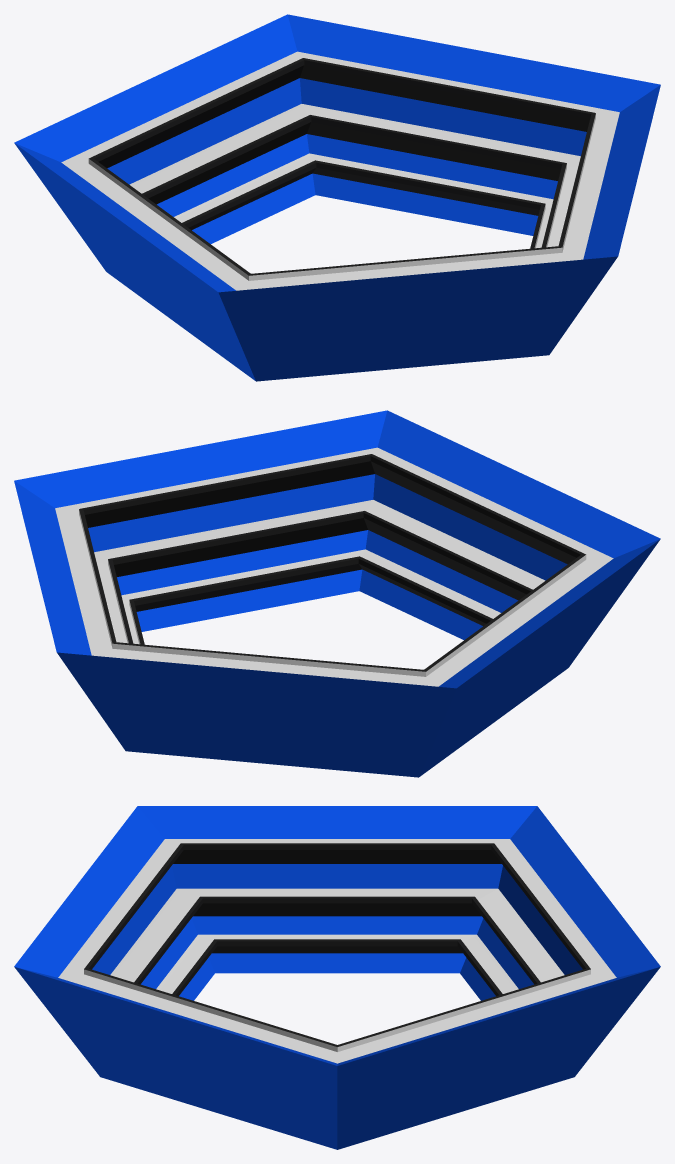
File: Tribunes 1.fbx
3 views of the same model, one above another, from view 1: azimuth 30°, elevation 25°; view 2: azimuth 150°, elevation 25°; view 3: azimuth 270°, elevation 25° (orthographic). The views are drawn at different scales.
Visible parts, largest first — view 1: Grid; view 2: Grid; view 3: Grid.
Boxes of the visible parts, left/top/right/bottom form: Grid: left=14, top=14, right=660, bottom=381; Grid: left=14, top=410, right=660, bottom=777; Grid: left=14, top=806, right=660, bottom=1149.
Bounding box in the file's own units: 234 × 51.23 × 246.
